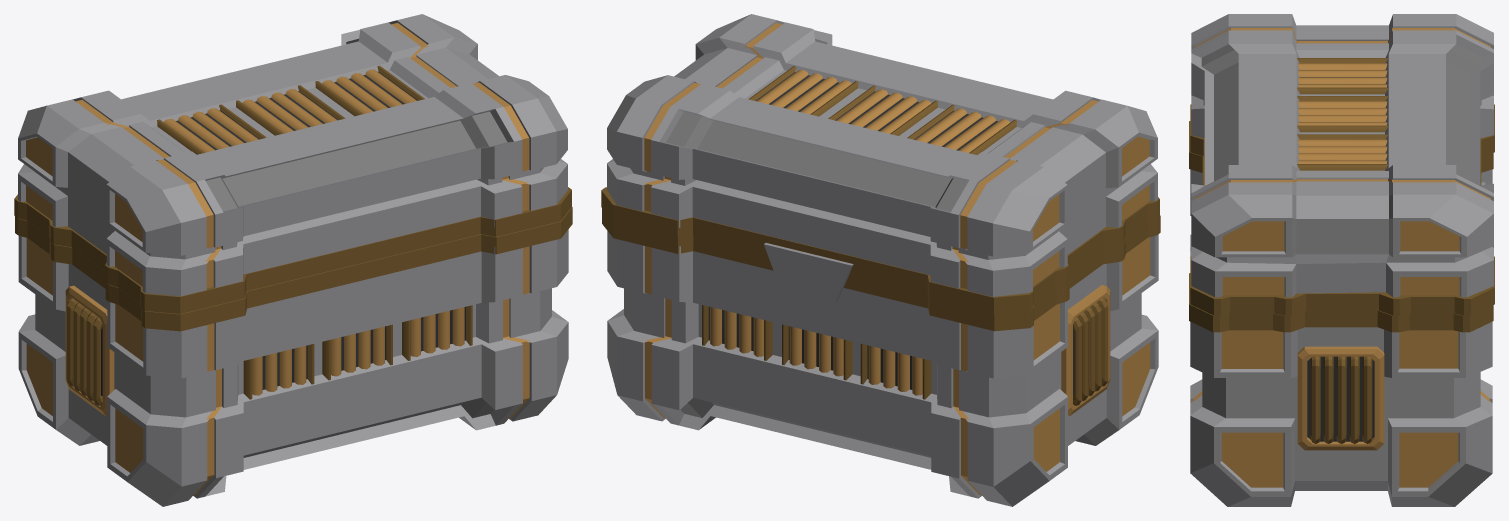
The model's file is quaternius-modular-sci-fi-props-chest.glb.
3 views of the same model, side by side, from view 1: azimuth 30°, elevation 25°; view 2: azimuth 150°, elevation 25°; view 3: azimuth 270°, elevation 25° (orthographic).
Visible parts, largest first — view 1: Props_ChestBottom; view 2: Props_ChestBottom; view 3: Props_ChestBottom.
Part boxes in pixels (<box>): Props_ChestBottom: <box>14,14,572,506</box>; Props_ChestBottom: <box>601,14,1160,506</box>; Props_ChestBottom: <box>1189,14,1494,506</box>.
Bounding box in the file's own units: 1.29 × 0.911 × 0.8083.
Materials: 1 (1 with a texture image).
